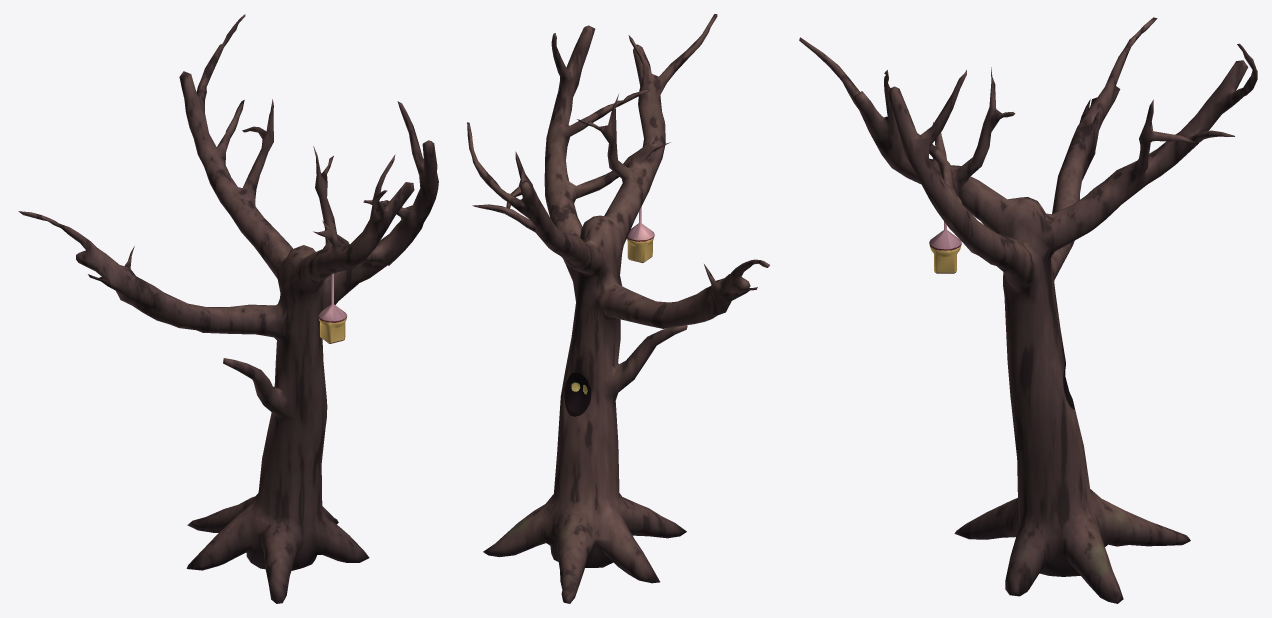
File: dead_tree_a.glb
The picture shows the model from 3 angles, left to right: view 1: azimuth 30°, elevation 25°; view 2: azimuth 150°, elevation 25°; view 3: azimuth 270°, elevation 25°; orthographic projection. The views are drawn at different scales.
Visible parts, largest first — view 1: Trunk, HangingLantern; view 2: Trunk, HangingLantern; view 3: Trunk, HangingLantern.
Part boxes in pixels (box(x1,y1,x2,y2)): Trunk: box(18, 14, 438, 603); HangingLantern: box(318, 273, 347, 343); Trunk: box(467, 14, 769, 603); HangingLantern: box(626, 207, 654, 262); Trunk: box(799, 17, 1257, 603); HangingLantern: box(929, 221, 961, 273).
Size of the model in its own units: 2.17 by 3.12 by 2.4.
Materials: 1 (1 with a texture image).
